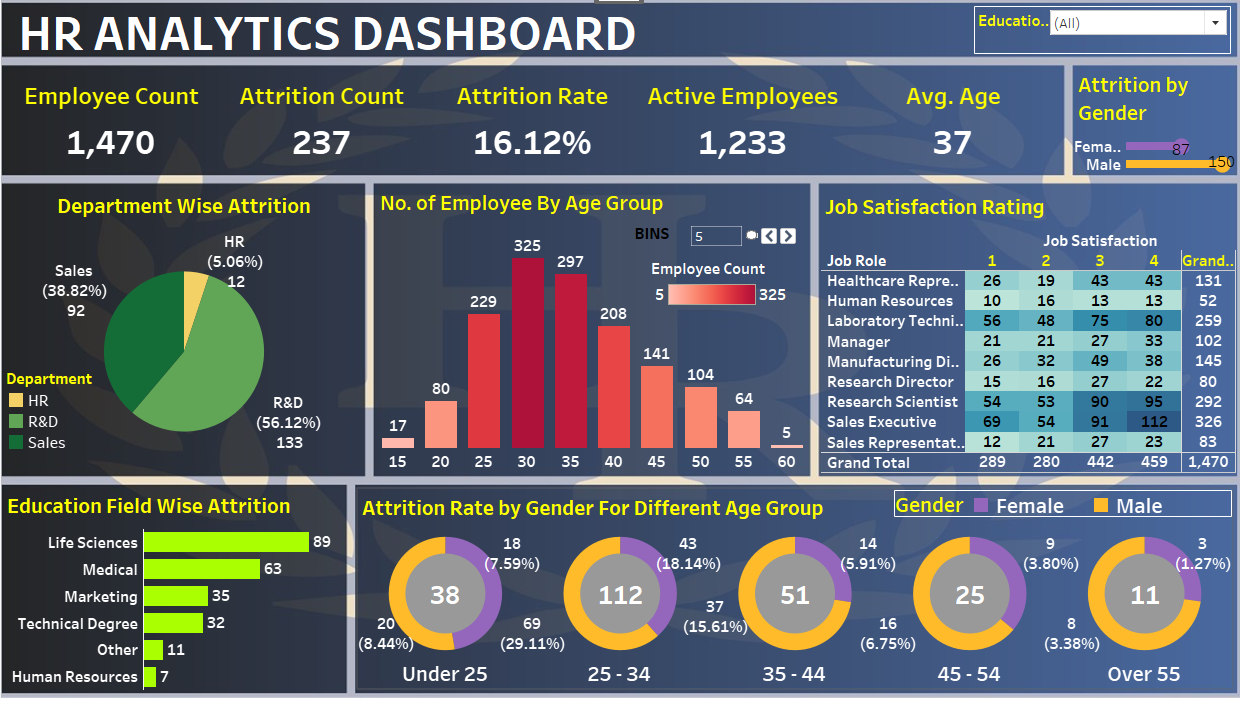

What the dashboard file says about the page in this screenshot:
{"tool":"tableau","page":{"name":"HR ANALYTICS  DASHBOARD ","canvas":[1360,725],"ordinal":0},"visuals":[{"type":"image","param":"C:/Users/mewar/Desktop/dashborad background/HR background.jpg","box":[8,8,1344,709]},{"type":"filter","title":"Department Wise Attrition","param":"[federated.0izmdmn0hod1ap1feb6p21kxh58a].[none:Education Field:nk]","box":[1013,21,279,48]},{"type":"text","box":[76,25,725,42]},{"type":"worksheet","title":"Attrition by Gender","mark":"Automatic","rows":["Gender"],"cols":["Calculation_707065169229983744","Calculation_707065169229983744"],"box":[1135,81,162,107]},{"type":"worksheet","title":"KPI","mark":"Automatic","box":[67,86,1053,100]},{"type":"worksheet","title":"No. of Employee By Age Group","mark":"Automatic","rows":["Employee Count"],"cols":["Age (bin)"],"box":[437,199,433,289]},{"type":"worksheet","title":"Department Wise Attrition","mark":"Pie","box":[66,202,358,287]},{"type":"worksheet","title":"Job Satisfaction Rating","mark":"Square","rows":["Job Role"],"cols":["Job Satisfaction"],"box":[882,203,415,285]},{"type":"parameter","param":"[Parameters].[Parameter 1]","box":[677,238,183,24]},{"type":"legend","title":"No. of Employee By Age Group","param":"[federated.0izmdmn0hod1ap1feb6p21kxh58a].[sum:Employee Count:qk]","box":[712,273,140,50]},{"type":"legend","title":"Department Wise Attrition","param":"[federated.0izmdmn0hod1ap1feb6p21kxh58a].[none:Department:nk]","box":[67,383,119,106]},{"type":"worksheet","title":"Education Field Wise Attrition","mark":"Automatic","rows":["Education Field"],"cols":["Calculation_707065169229983744"],"box":[64,502,341,203]},{"type":"worksheet","title":"Attrition Rate by Gender For Different Age Group","mark":"Pie","rows":["Calculation_707065169355685896","Calculation_707065169355685896"],"cols":["CF_age band"],"box":[419,504,874,199]},{"type":"legend","title":"Attrition Rate by Gender For Different Age Group","param":"[federated.0izmdmn0hod1ap1feb6p21kxh58a].[none:Gender:nk]","box":[955,505,338,27]}]}

Visuals, with their boxes on the page's 1360x725 design canvas (x1, y1, x2, y2). These are canvas units, not pixel positions in the 1240x702 screenshot, which may show the page scaled, cropped or inside an application window:
image: (8, 8, 1352, 717)
"Department Wise Attrition" filter: (1013, 21, 1292, 69)
text: (76, 25, 801, 67)
"Attrition by Gender" worksheet: (1135, 81, 1297, 188)
"KPI" worksheet: (67, 86, 1120, 186)
"No. of Employee By Age Group" worksheet: (437, 199, 870, 488)
"Department Wise Attrition" worksheet (Pie marks): (66, 202, 424, 489)
"Job Satisfaction Rating" worksheet (Square marks): (882, 203, 1297, 488)
parameter: (677, 238, 860, 262)
"No. of Employee By Age Group" legend: (712, 273, 852, 323)
"Department Wise Attrition" legend: (67, 383, 186, 489)
"Education Field Wise Attrition" worksheet: (64, 502, 405, 705)
"Attrition Rate by Gender For Different Age Group" worksheet (Pie marks): (419, 504, 1293, 703)
"Attrition Rate by Gender For Different Age Group" legend: (955, 505, 1293, 532)
